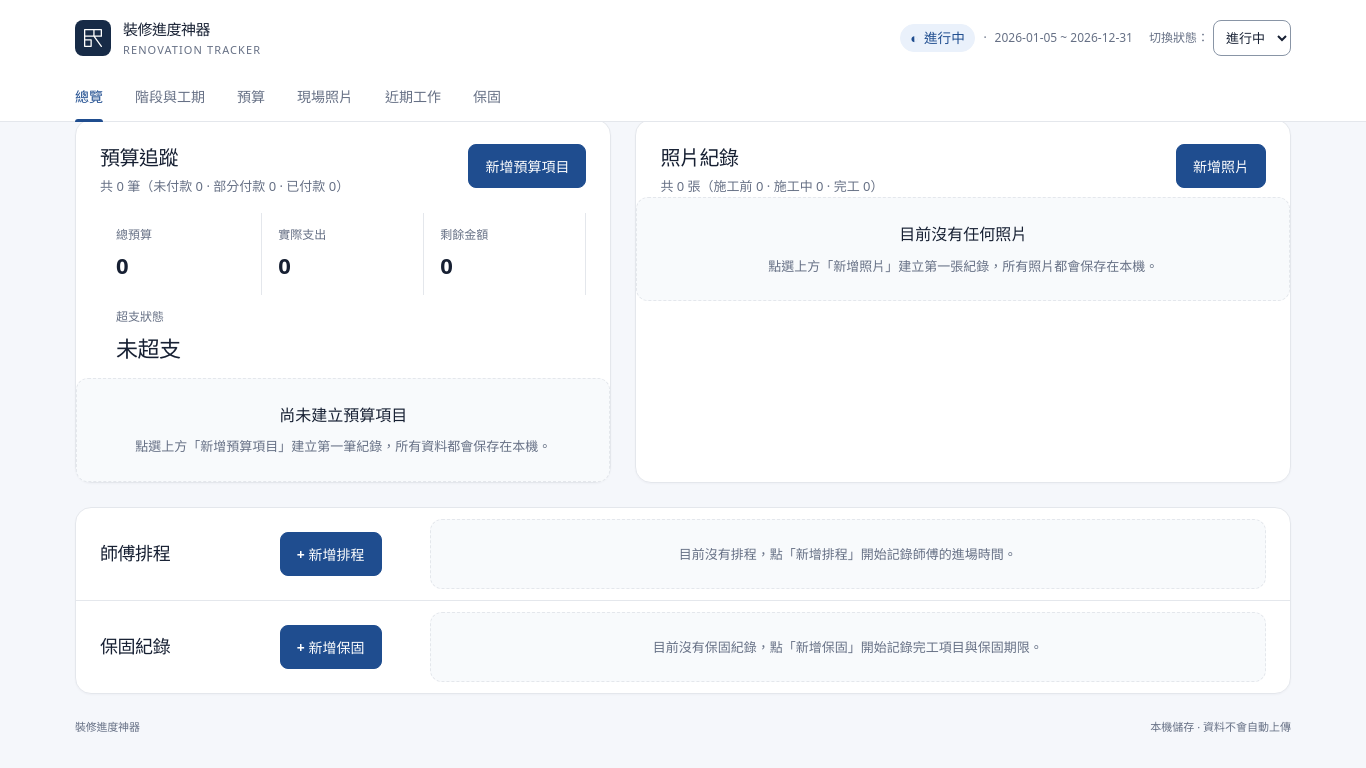
AC-FR006-01 — empty state, CRUD, section header › creates a valid warranty, persists it, and shows it in the list
The width and height of the screenshot is (1366, 768).
(page scrolled)
Click the button with test id "warranty-add-cta". click: [331, 647]
box: [280, 625, 382, 669]
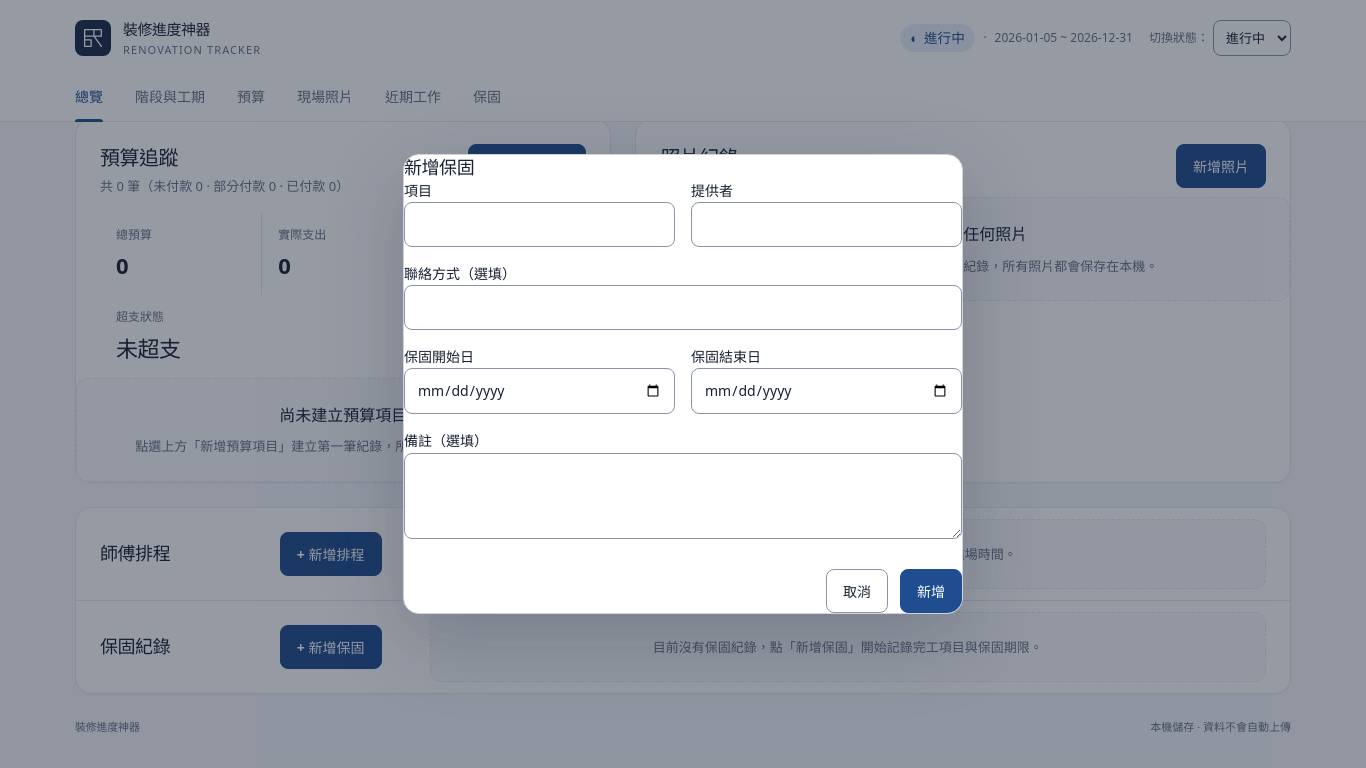
Type "磁磚保固" into the field with test id "warranty-item-input". click: [540, 225]
box: [404, 202, 675, 247]
Type "里歐建材" into the field with test id "warranty-provider-input". click: [826, 225]
box: [691, 202, 962, 247]
Type "0912345678" into the field with test id "warranty-contact-input". click: [683, 307]
box: [404, 285, 962, 330]
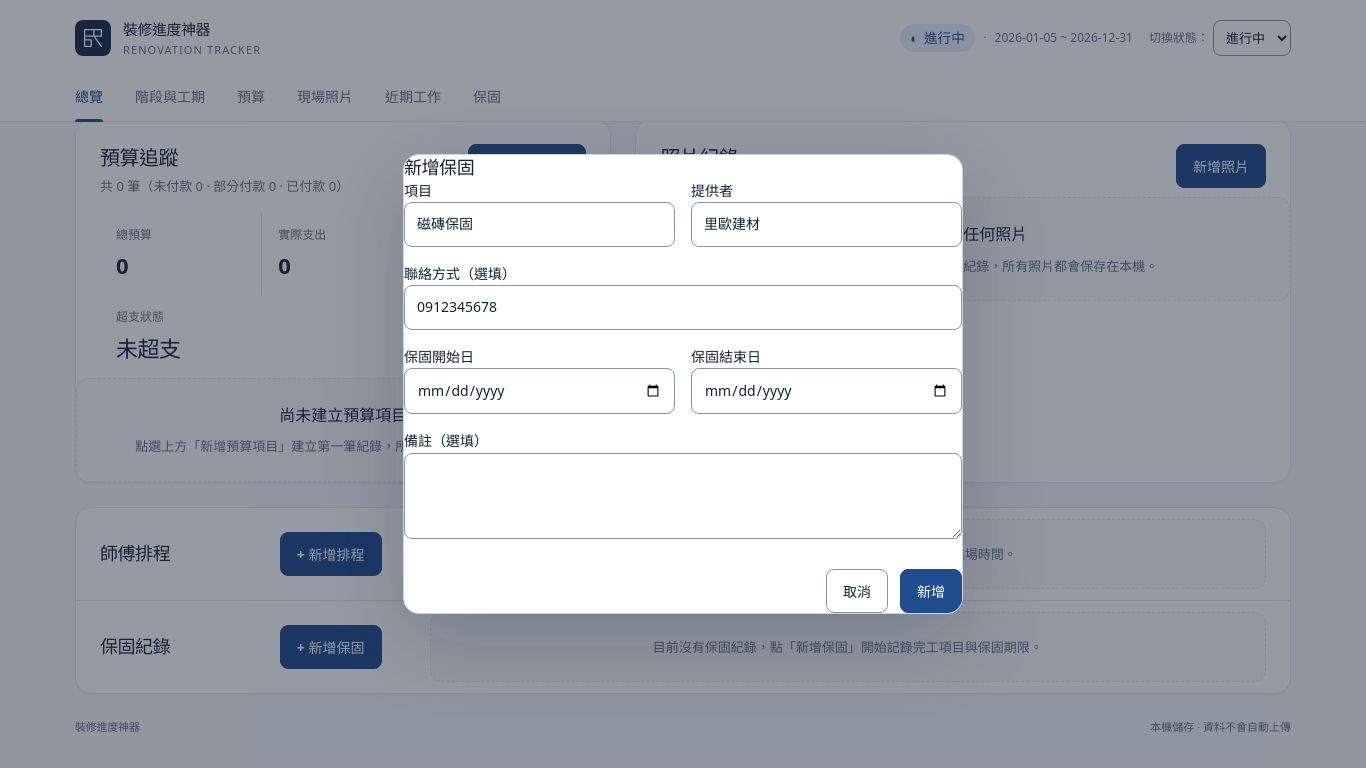
Type "2026-01-01" into the date field with test id "warranty-starts-input". click: [540, 391]
box: [404, 368, 675, 414]
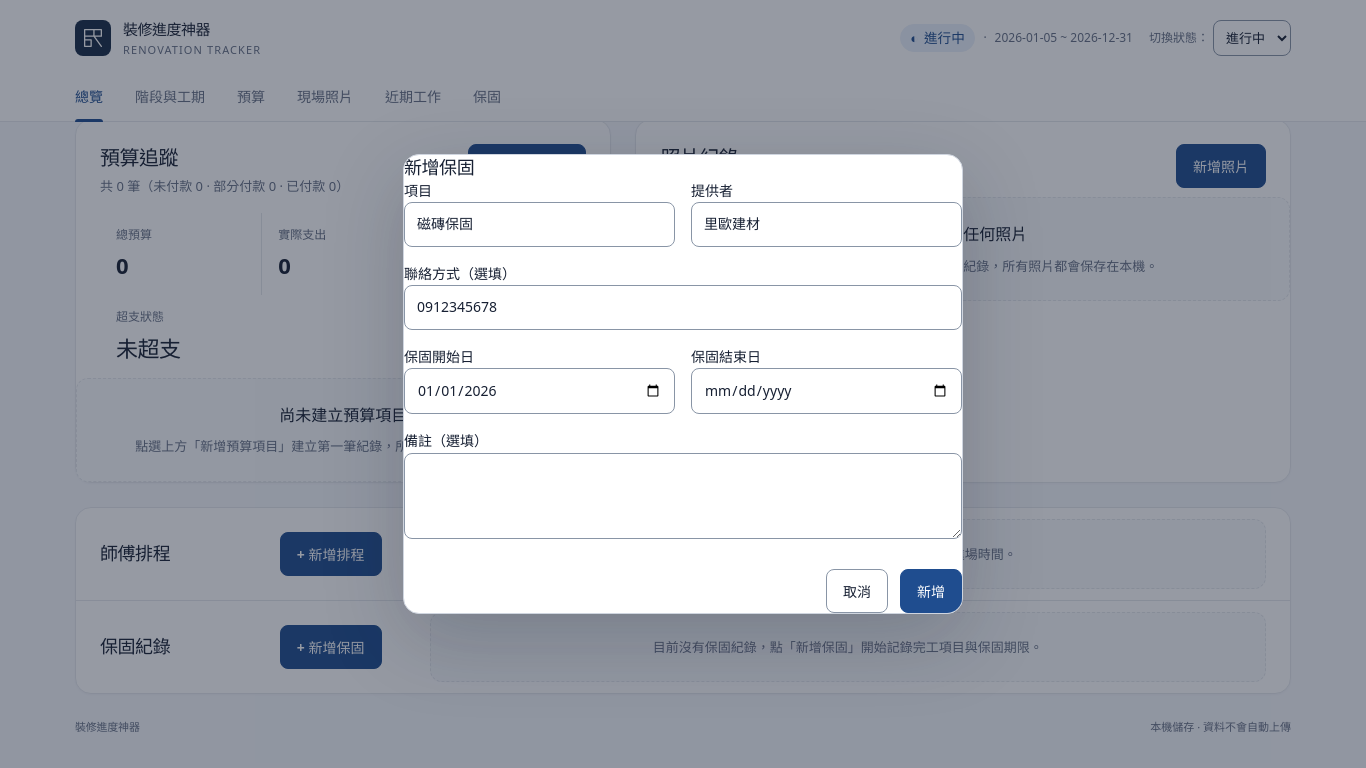
Type "2026-12-31" into the date field with test id "warranty-ends-input". click: [826, 391]
box: [691, 368, 962, 414]
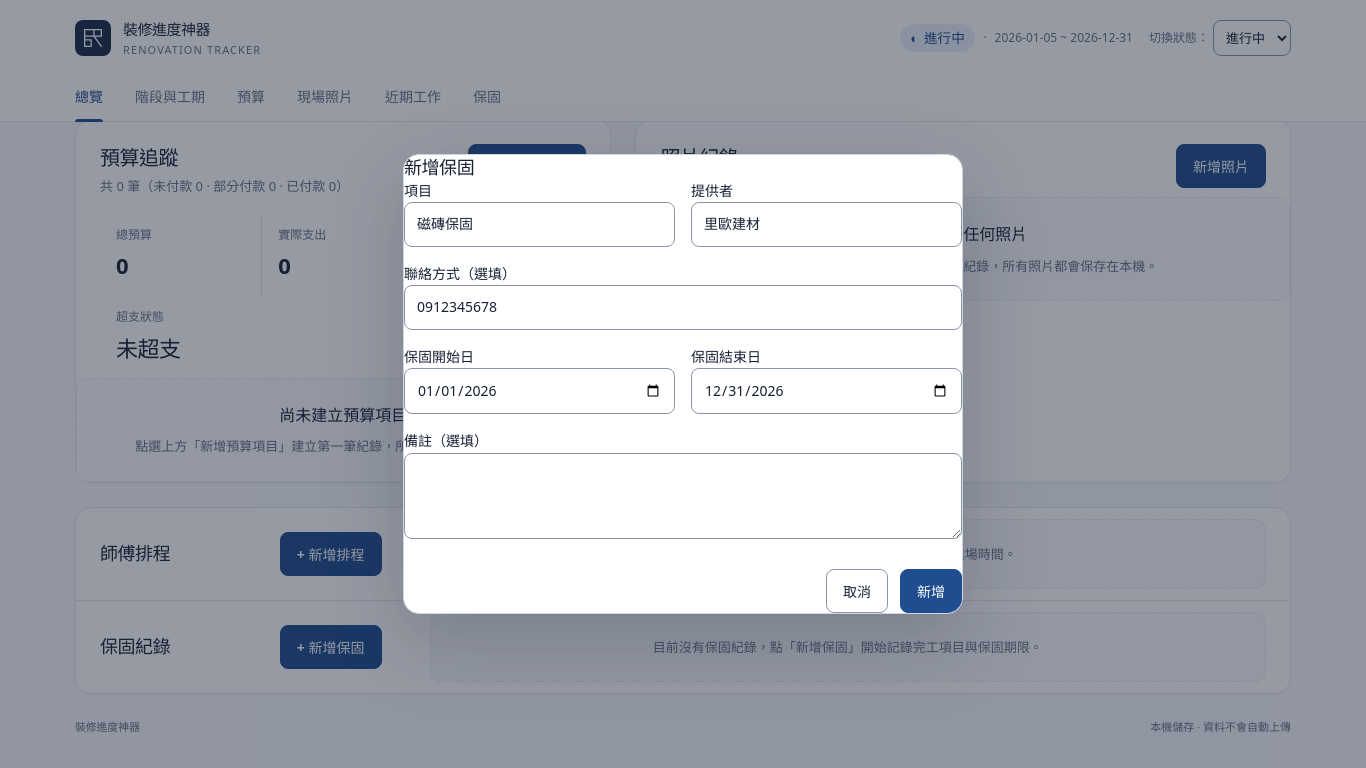
Type "客廳" into the text box with test id "warranty-note-input". click: [683, 496]
box: [404, 453, 962, 539]
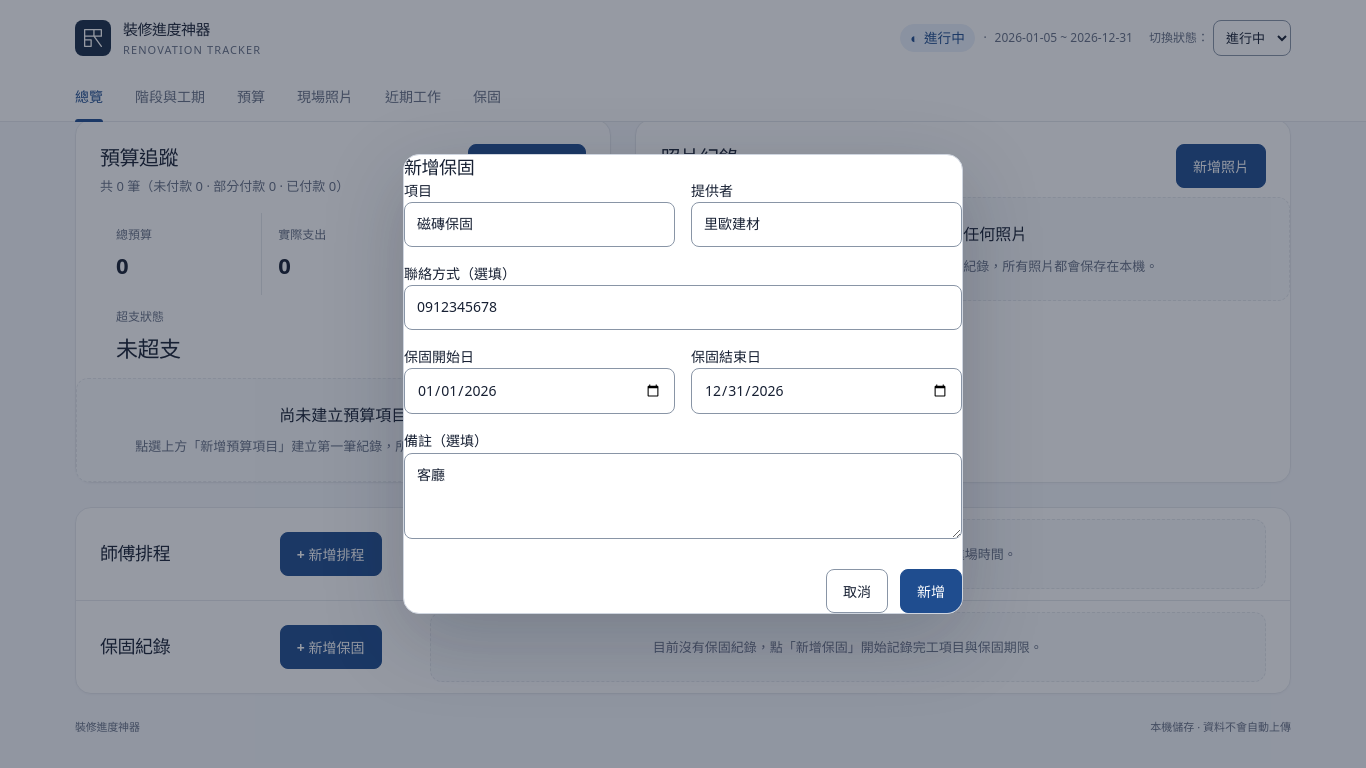
Click the button with test id "warranty-submit". click: [931, 591]
box: [900, 569, 962, 613]
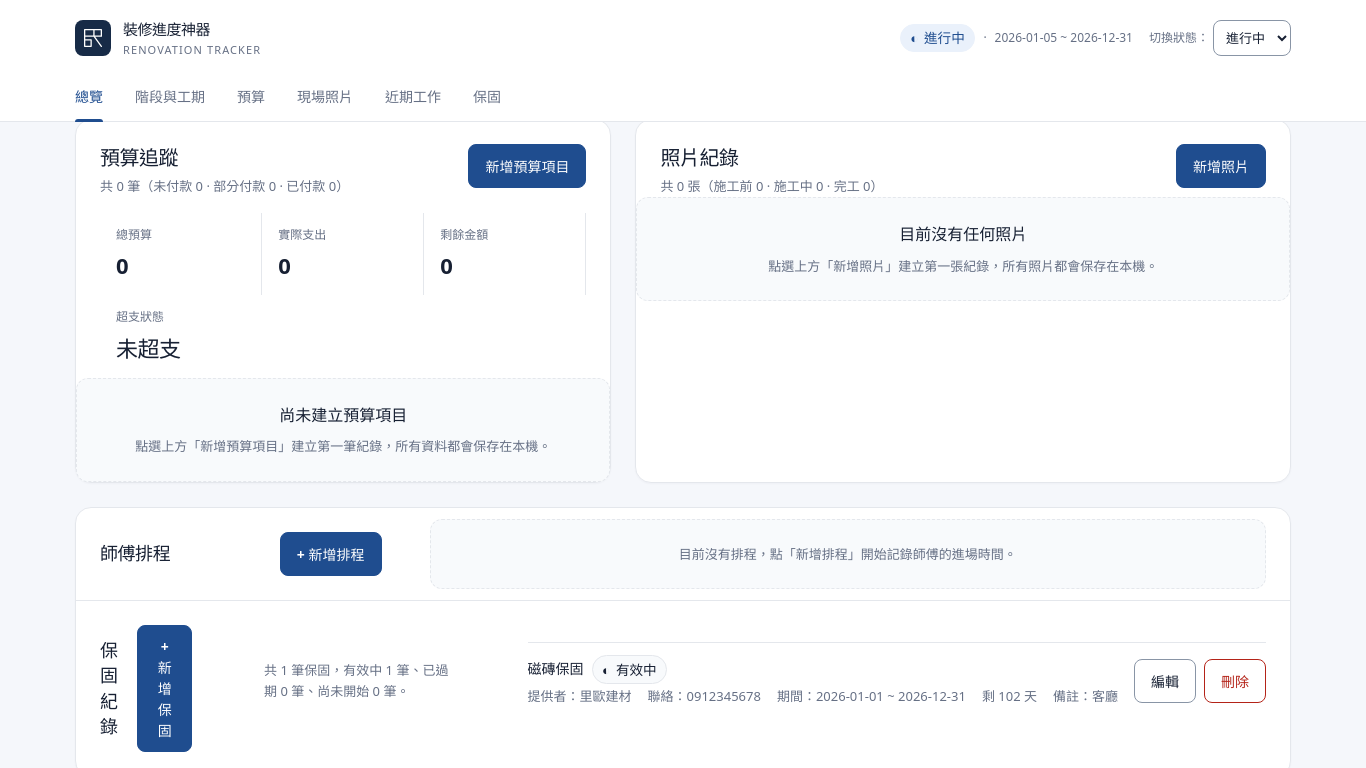
expect the list with test id "warranty-list" is shown: met, box [504, 642, 1290, 735]
expect the text "磁磚保固" is shown: met, box [528, 658, 584, 681]
expect the text "提供者：里歐建材" is shown: met, box [528, 686, 632, 707]
